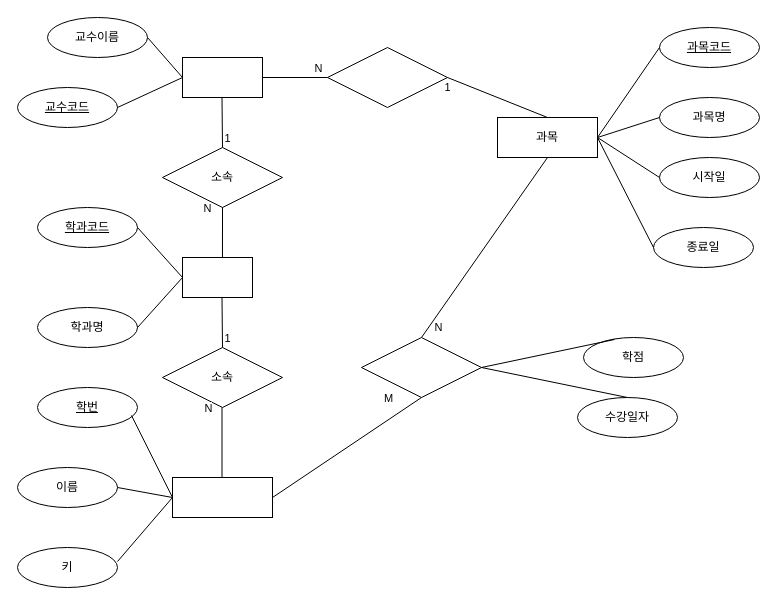
Image size: 777x605. Some labels were removed from this diagram. Here are the shapes that lost their labels. From the top down, the box of each, then its label:
(182, 56, 262, 98): 교수
(326, 46, 448, 108): 강의
(182, 256, 252, 298): 학과
(360, 336, 482, 398): 수강
(172, 476, 272, 518): 학생
